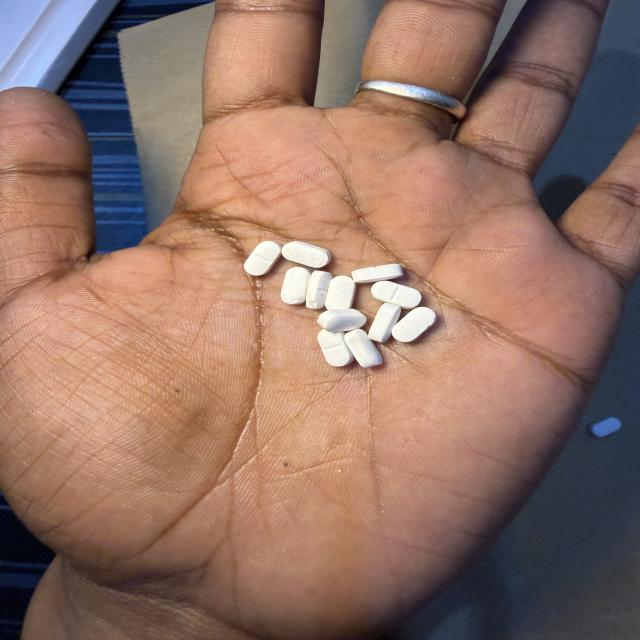pill: (392, 307, 436, 342), (345, 329, 382, 368), (372, 281, 421, 308), (282, 241, 331, 268), (244, 241, 281, 276), (369, 303, 401, 343), (318, 330, 353, 366), (281, 267, 310, 304), (318, 309, 366, 331), (325, 276, 355, 309), (352, 264, 403, 283), (306, 271, 331, 309), (589, 418, 621, 437)
